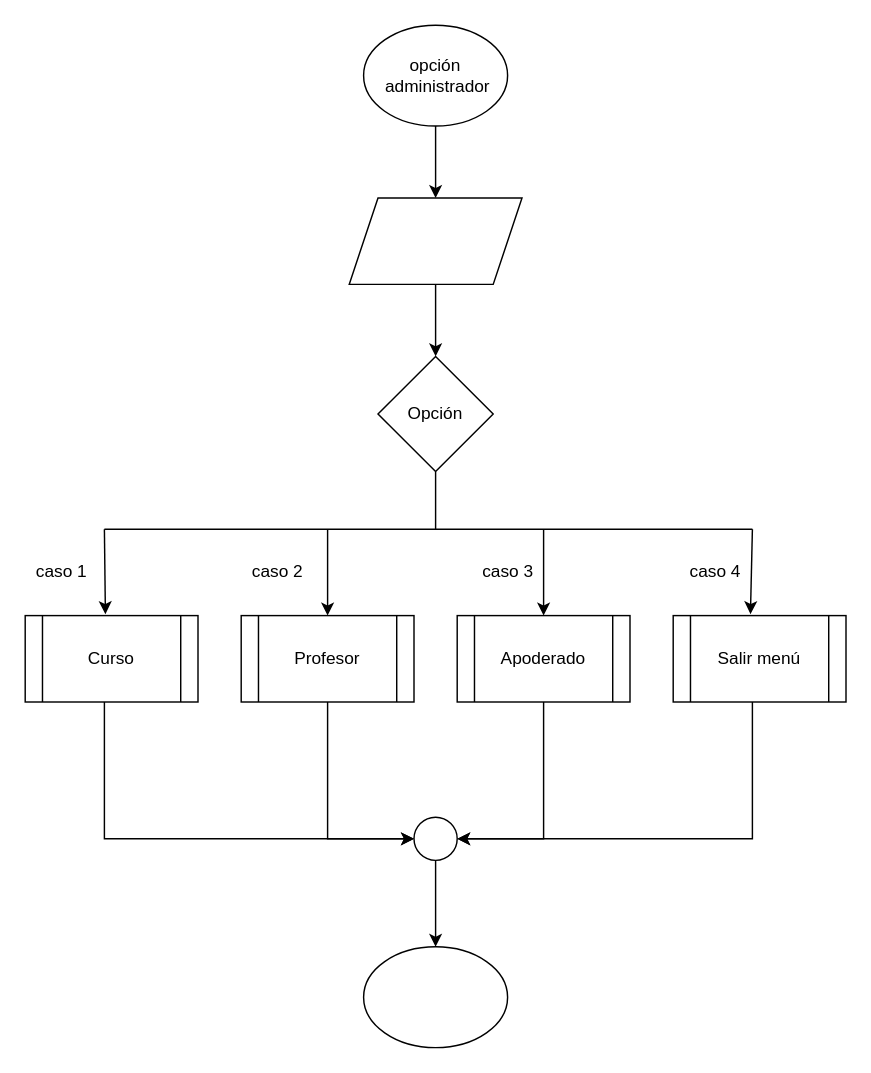
The diagram is 871 pixels wide and 1073 high, and some of its shapes have lost their labels. The shapes that lost their labels are listed below. From the top down, each one's centre as x and y in pixels, then its label:
At [435,240]: "opción tipo usuario".
At [435,996]: "Fin Algoritmo".
